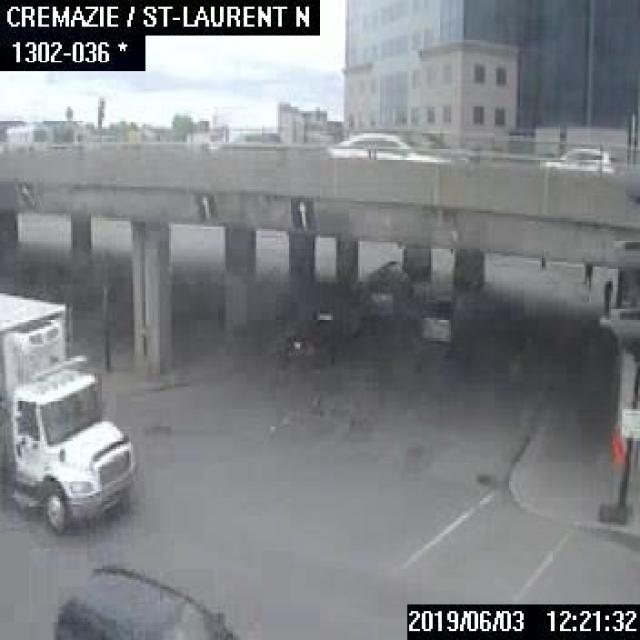construction: (607, 426, 630, 526)
vehicle: (0, 289, 133, 529), (54, 564, 234, 638), (331, 129, 451, 168), (278, 300, 353, 362), (357, 256, 409, 318), (414, 287, 454, 342), (540, 142, 609, 172)
